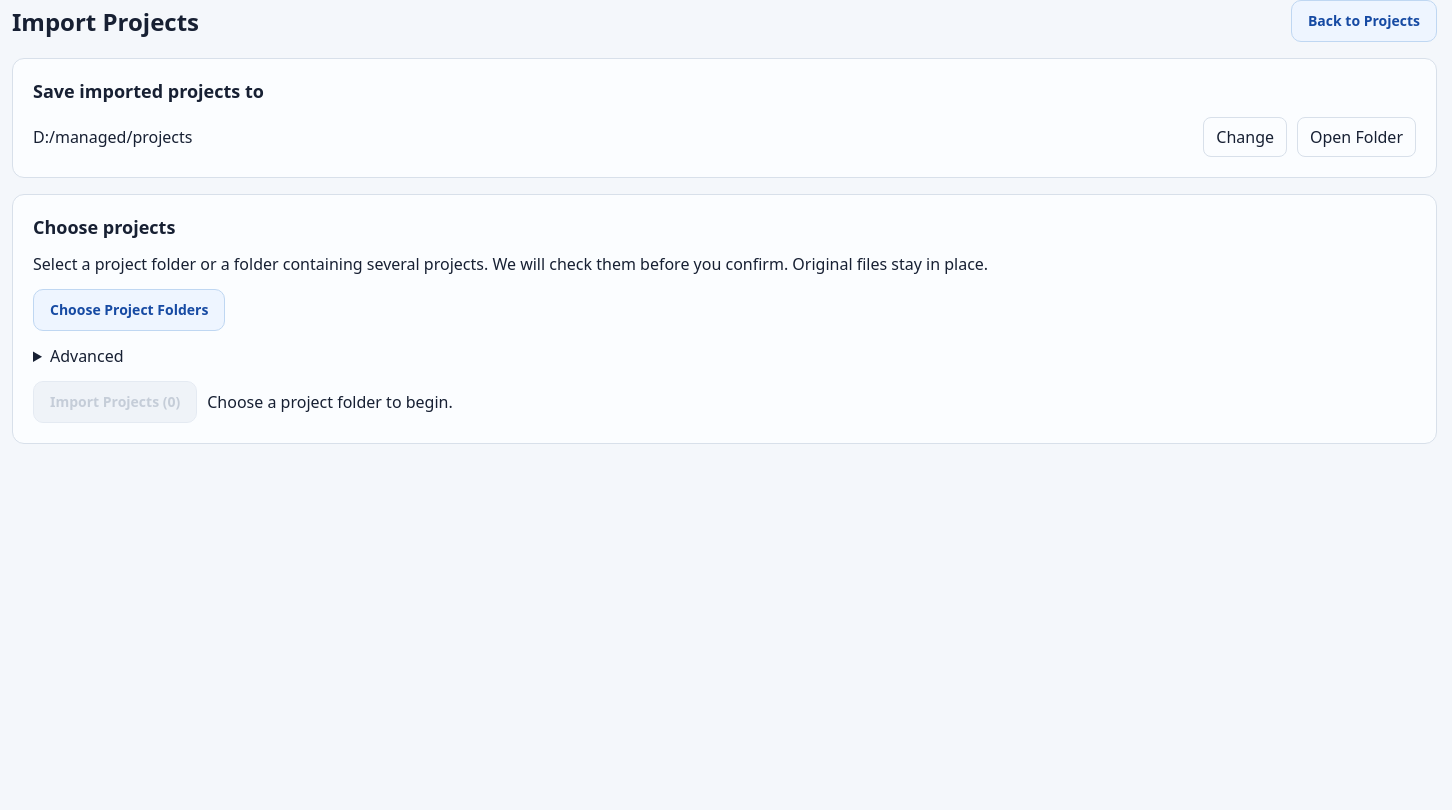
Test case: blocks mixed overlapping boundaries even when another folder sorts between their names
Click the button "Choose Project Folders" at (129, 310), box [33,289,225,331]
(page scrolled)
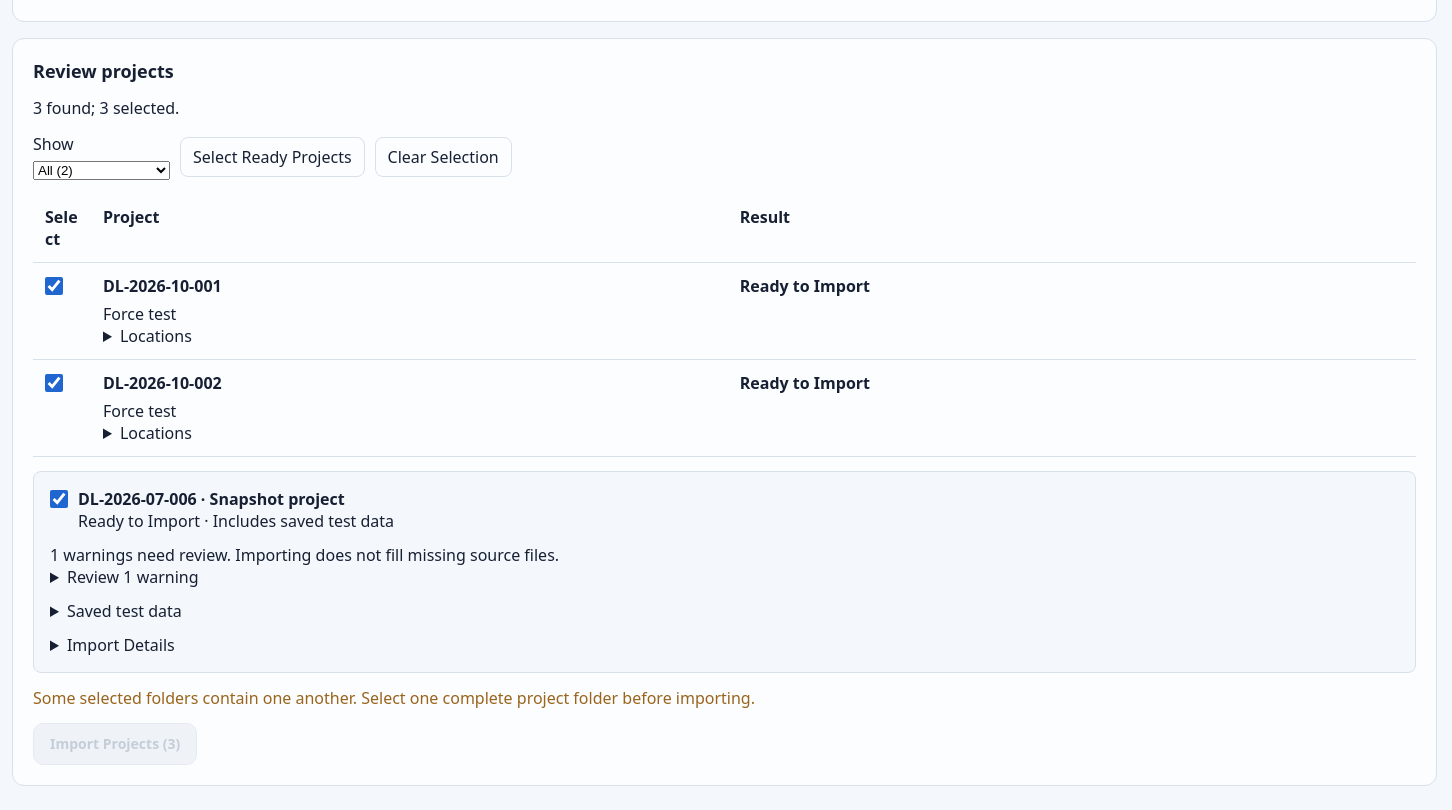
Expected: the button "Import Projects (3)" is disabled, [33,723,197,765]
Expected: the 2nd message shows "contain one another", [33,687,755,709]
